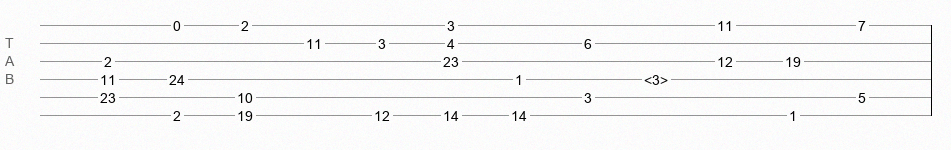0: (173, 18, 181, 28)
1: (515, 72, 523, 82), (789, 108, 797, 118)
10: (237, 90, 253, 100)
11: (100, 72, 116, 82), (306, 36, 322, 46), (717, 18, 733, 28)
12: (374, 108, 390, 118), (717, 54, 733, 64)
14: (443, 108, 459, 118), (511, 108, 527, 118)
19: (237, 108, 253, 118), (785, 54, 801, 64)
2: (104, 54, 112, 64), (173, 108, 181, 118), (241, 18, 249, 28)
23: (100, 90, 116, 100), (443, 54, 459, 64)
24: (169, 72, 185, 82)
3: (378, 36, 386, 46), (447, 18, 455, 28), (584, 90, 592, 100)
4: (447, 36, 455, 46)
5: (858, 90, 866, 100)
6: (584, 36, 592, 46)
7: (858, 18, 866, 28)
harmonic: (644, 72, 668, 82)
